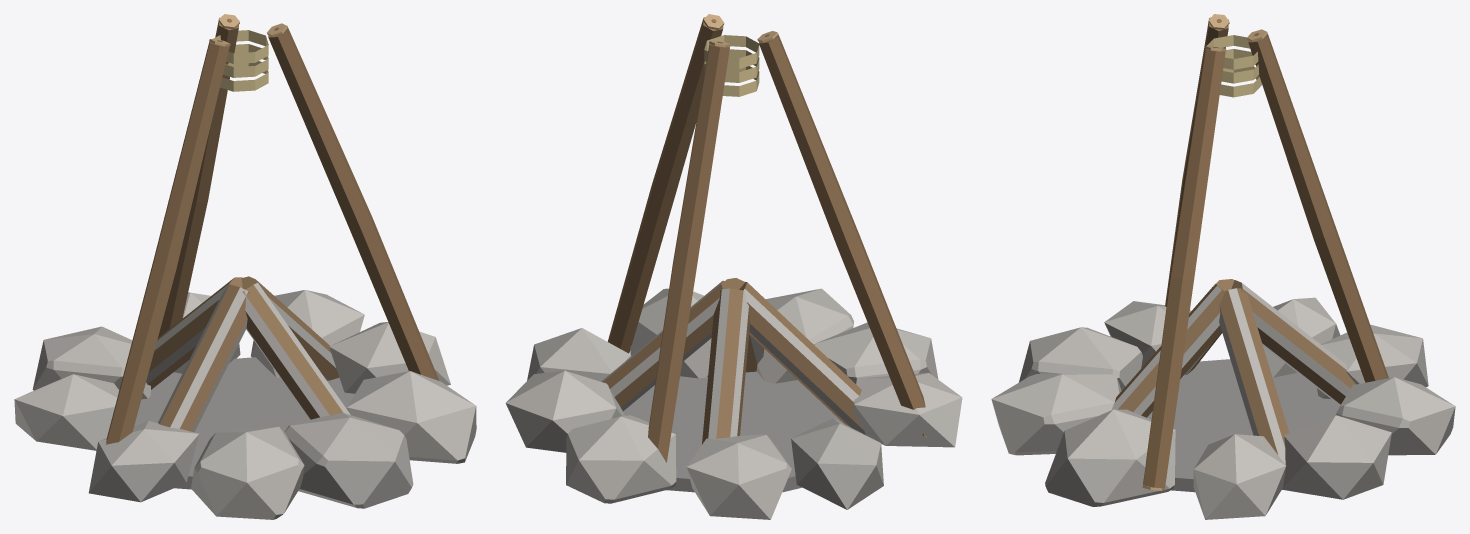
File: hearth_unlit.glb
3 views of the same model, side by side, from view 1: azimuth 30°, elevation 25°; view 2: azimuth 150°, elevation 25°; view 3: azimuth 270°, elevation 25° (orthographic).
Parts seen in each view (by area): view 1: hearth_unlit; view 2: hearth_unlit; view 3: hearth_unlit.
Boxes of the visible parts, x1,y1,x2,y2 form: hearth_unlit: [14, 14, 476, 519]; hearth_unlit: [505, 14, 962, 519]; hearth_unlit: [991, 14, 1455, 519].
Bounding box in the file's own units: 0.9266 × 0.9336 × 0.9766.
